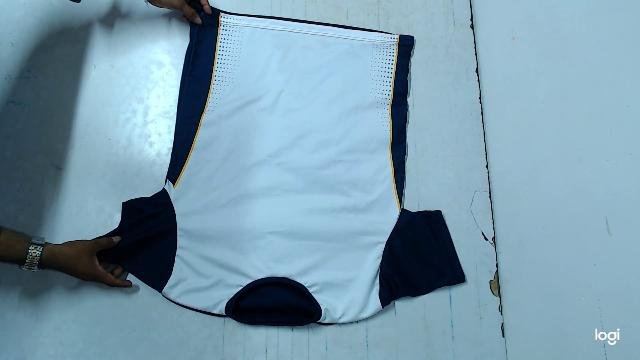new-garment: (102, 10, 464, 326), (233, 97, 233, 97)
